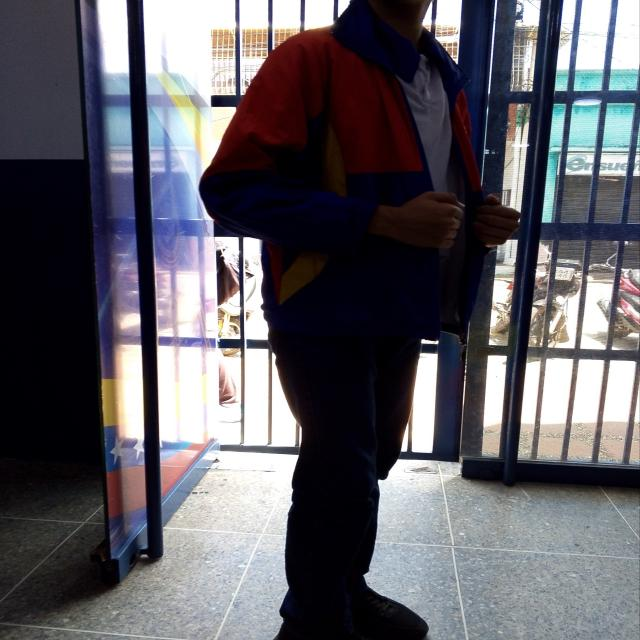chaqueta_unefa: (196, 0, 487, 345)
